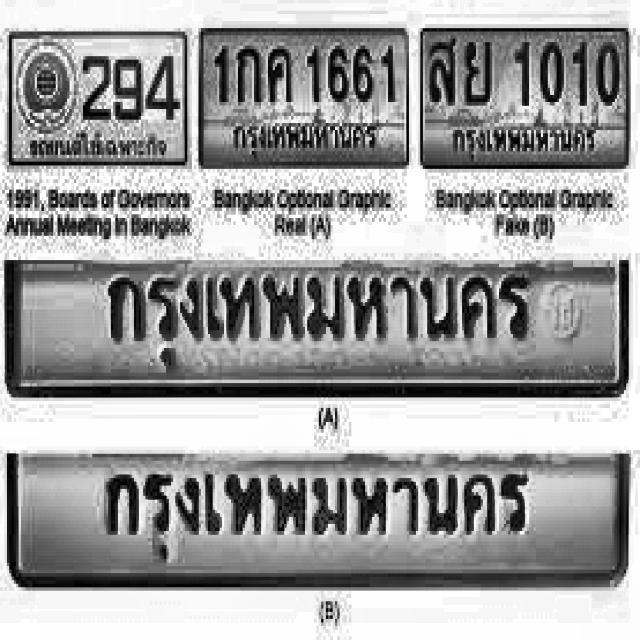license-plate: (195, 22, 413, 176), (419, 22, 633, 176)
